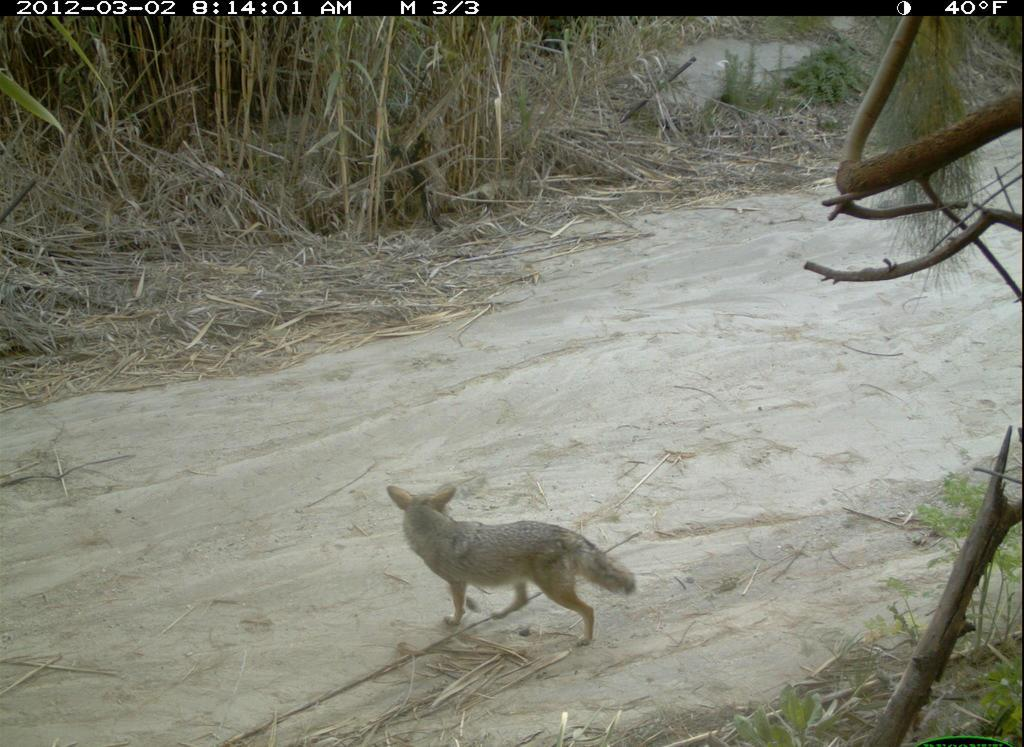coyote: (387, 470, 644, 658)
